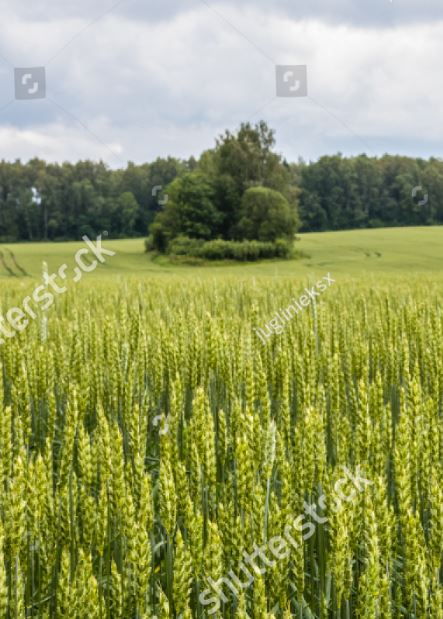Wheat: (61, 375, 412, 593)
